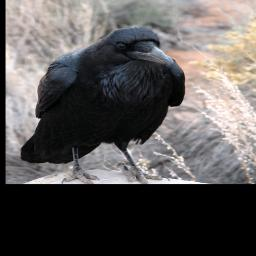Crow: (17, 25, 189, 184)
